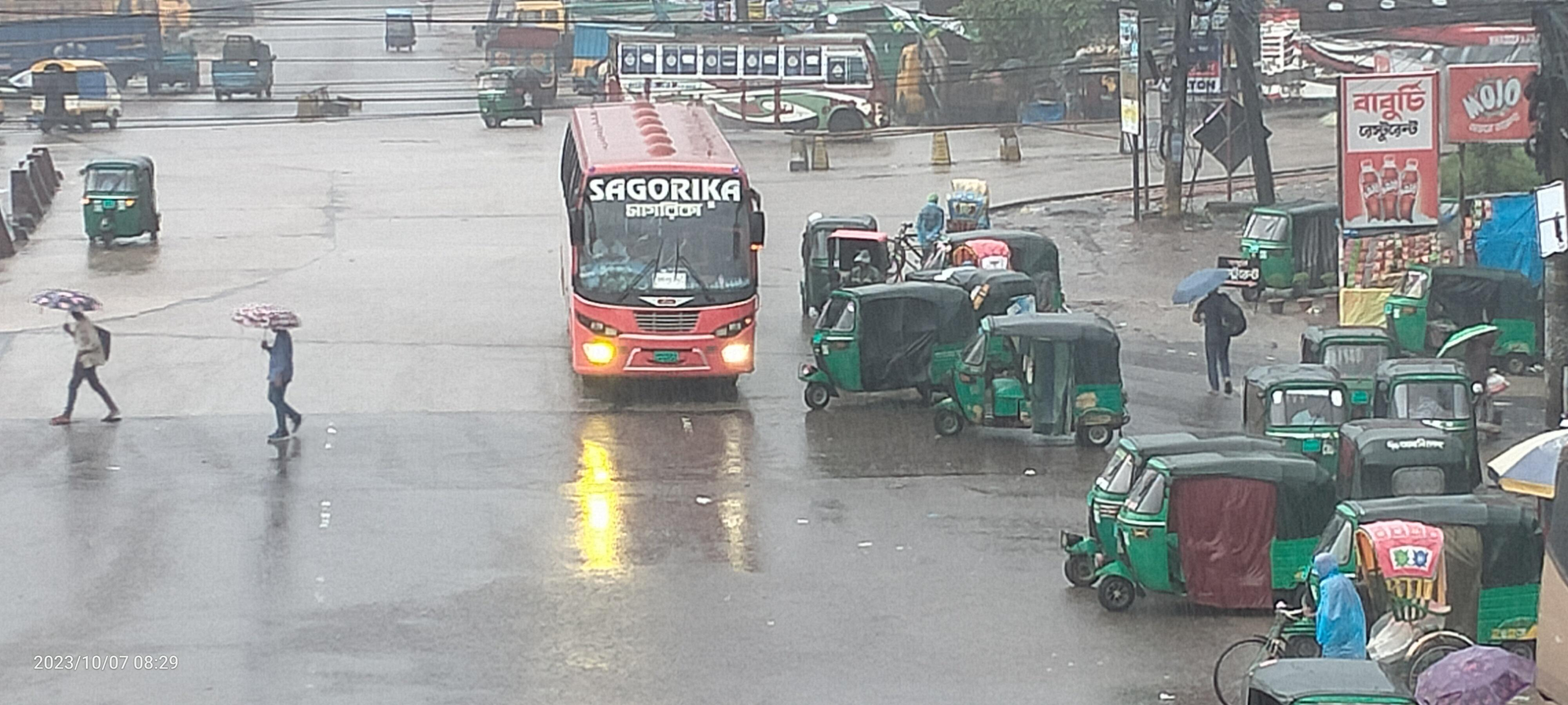Bus: (519, 86, 781, 412), (590, 31, 922, 154), (1243, 0, 1568, 125)
Car: (13, 50, 136, 146), (884, 197, 1007, 277), (804, 224, 903, 320), (375, 6, 422, 60)
Truck: (0, 0, 182, 83), (202, 30, 278, 102)
